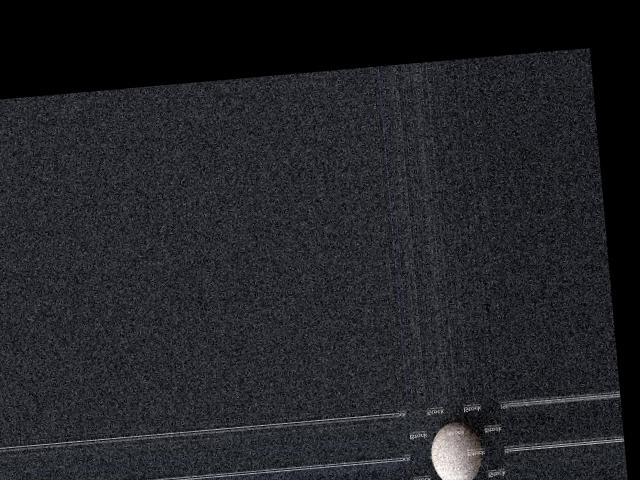egg: (429, 419, 485, 480)
